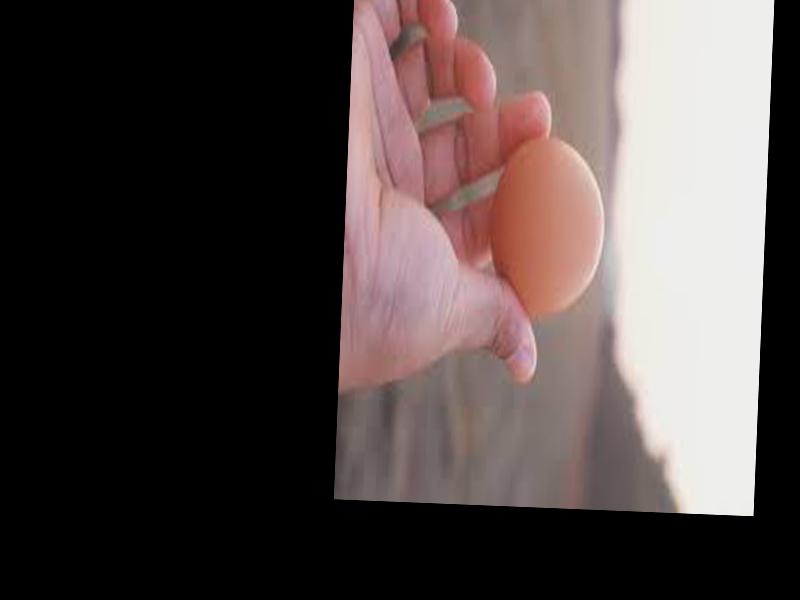Eggs: (489, 134, 607, 316)
